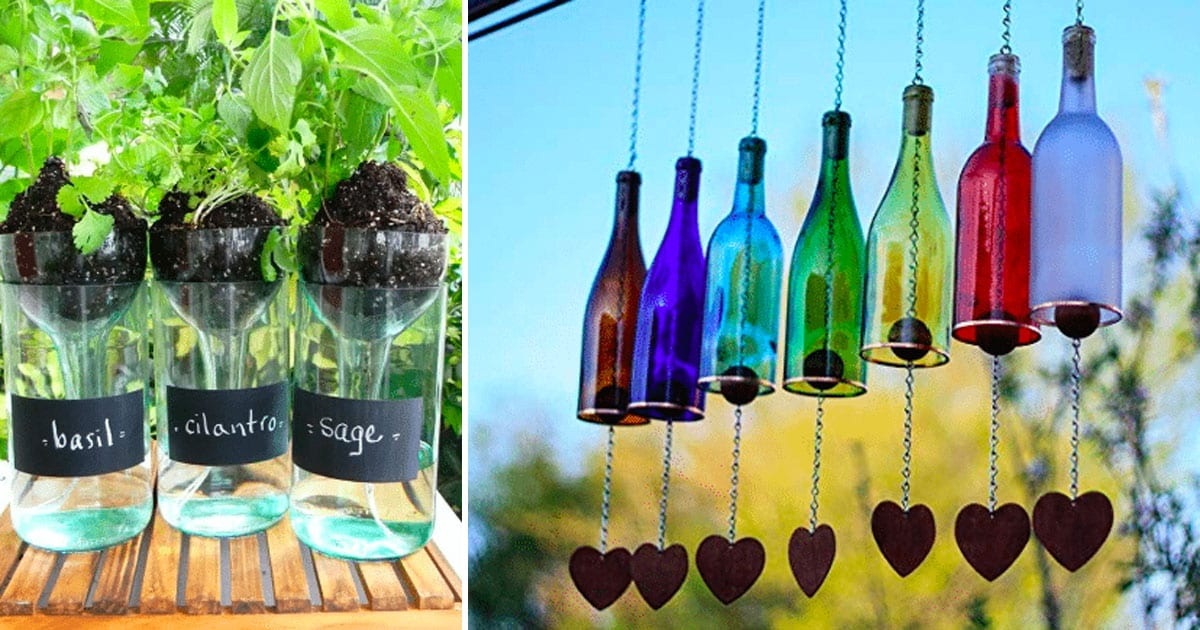glass_bottle: (1029, 23, 1125, 346), (780, 111, 873, 416), (954, 42, 1042, 355), (859, 81, 952, 371), (569, 162, 659, 431), (699, 131, 779, 411)
